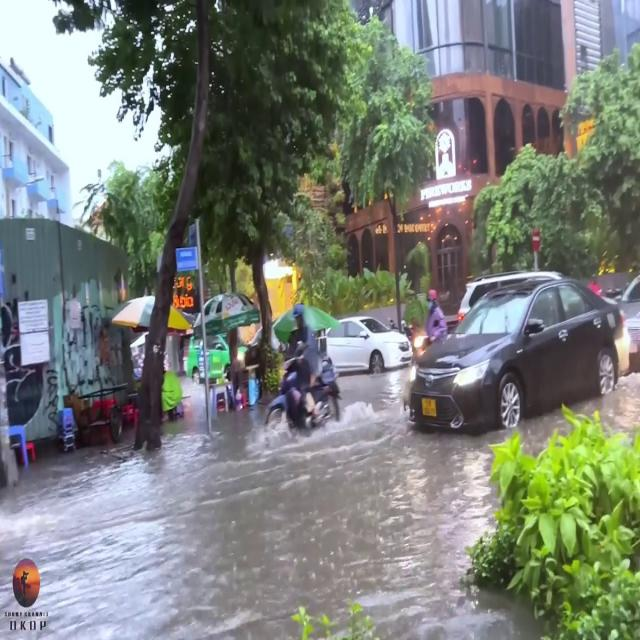bien_vang: (418, 396, 435, 419)
